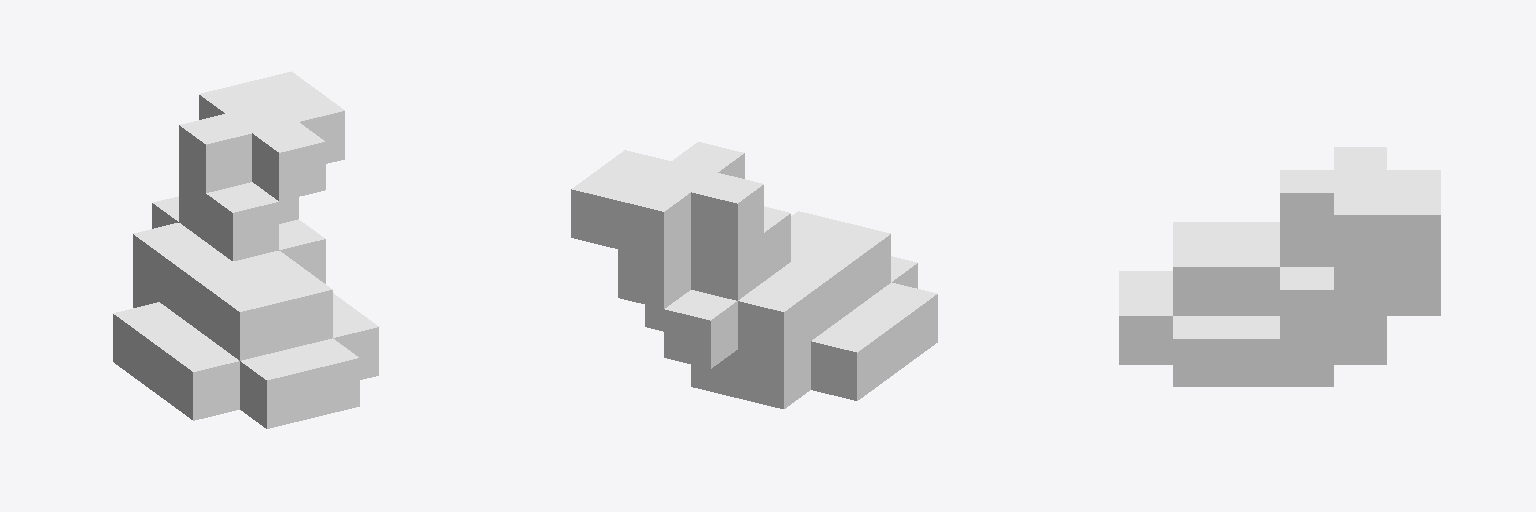
The model's file is knight-2.obj.
3 renders of one model, left to right at view 1: azimuth 30°, elevation 25°; view 2: azimuth 150°, elevation 25°; view 3: azimuth 270°, elevation 25°, orthographic.
Visible parts, largest first — view 1: object 1; view 2: object 1; view 3: object 1.
Boxes of the visible parts, x1=… form: object 1: x1=113, y1=71, x2=378, y2=428; object 1: x1=571, y1=142, x2=937, y2=408; object 1: x1=1119, y1=147, x2=1440, y2=386.
Size of the model in its own units: 0.5 by 0.4 by 0.6.